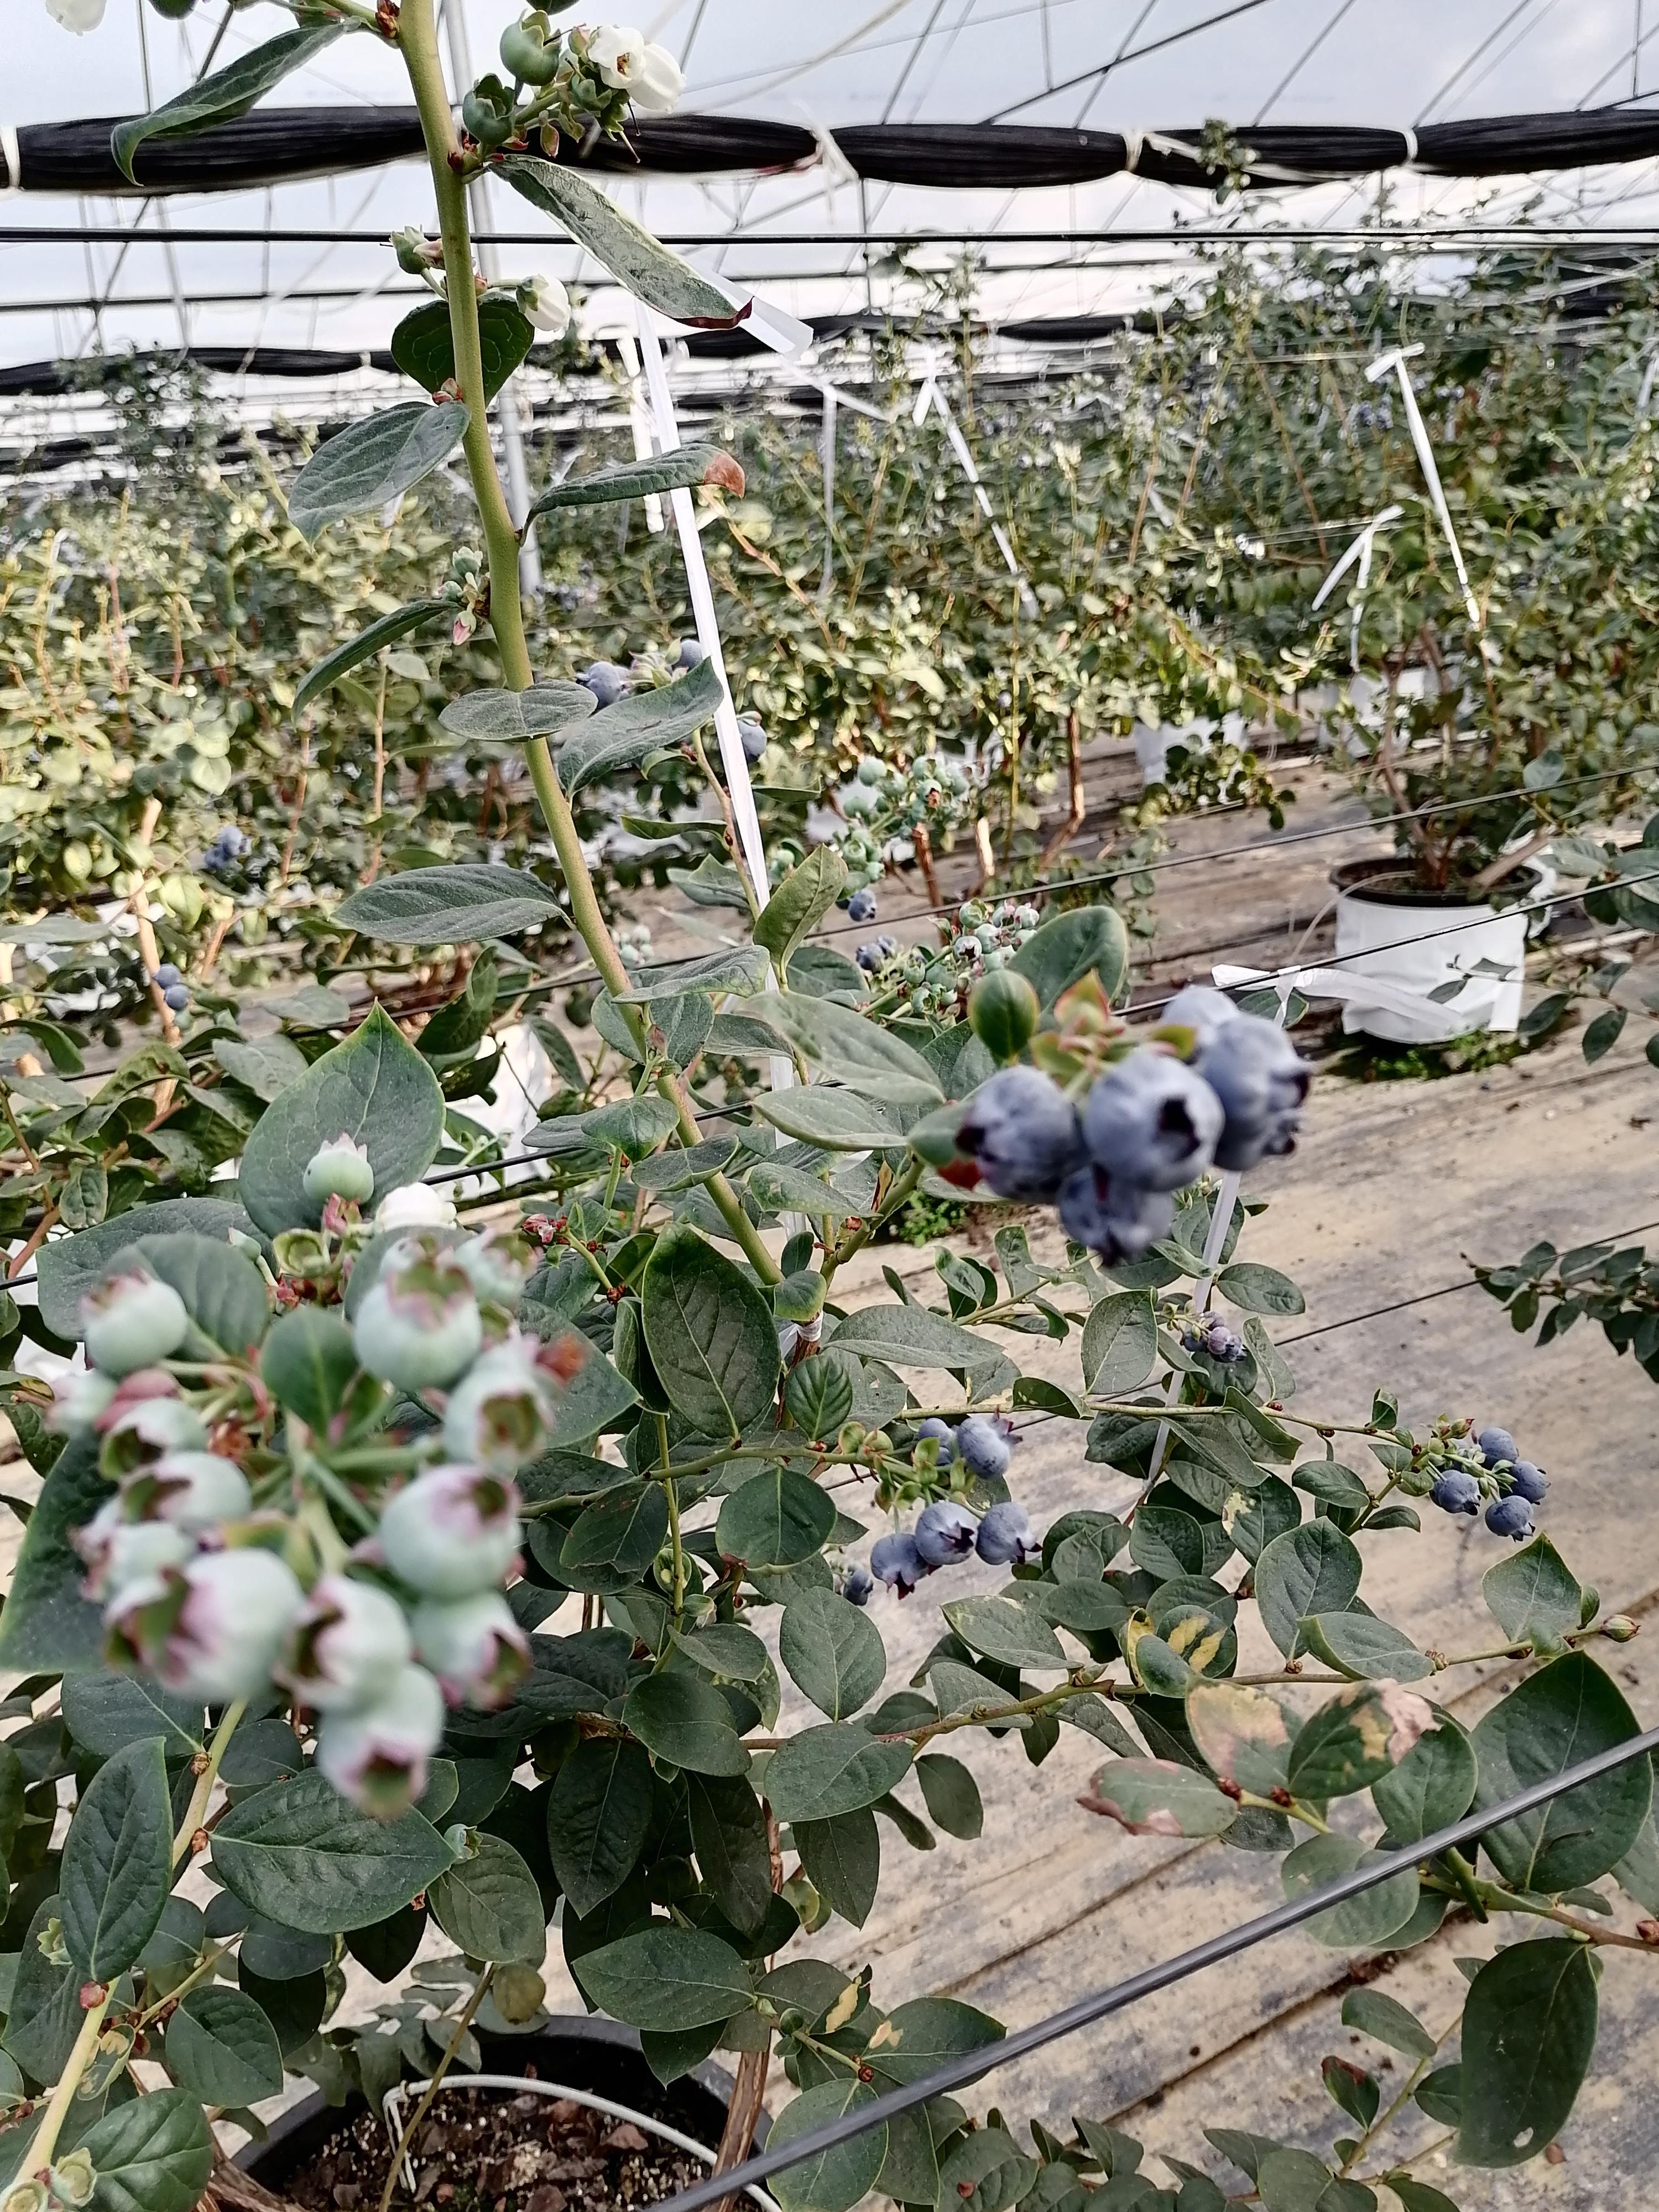ripe-blueberries: (1082, 1049, 1227, 1193), (1195, 1012, 1316, 1174), (958, 1064, 1077, 1193), (1058, 1165, 1176, 1270), (953, 1406, 1023, 1480), (974, 1501, 1040, 1566), (915, 1501, 979, 1566), (870, 1531, 931, 1599), (1485, 1494, 1535, 1543), (1500, 1461, 1551, 1507), (579, 660, 622, 711), (1438, 1472, 1481, 1515), (1480, 1426, 1520, 1474), (737, 718, 767, 765), (1429, 1468, 1462, 1508), (671, 639, 704, 672), (849, 888, 878, 923), (221, 826, 249, 857), (856, 944, 884, 972), (153, 965, 179, 991), (164, 984, 190, 1010)
